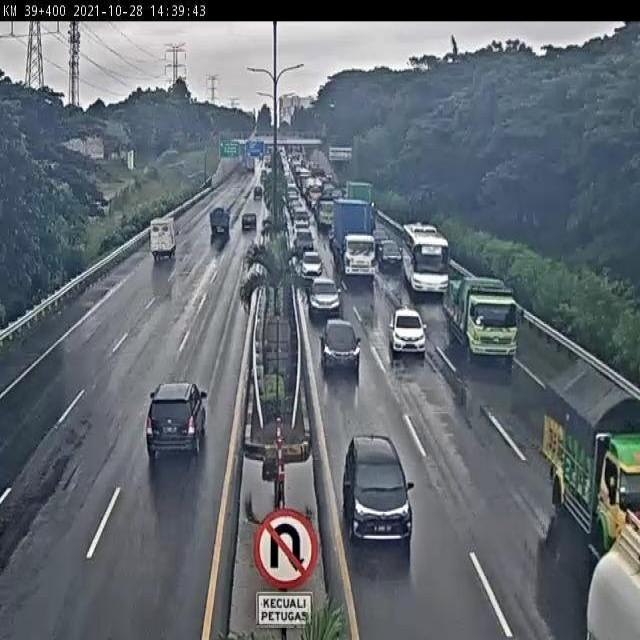big bus: (402, 217, 453, 296)
big truck: (332, 196, 373, 277)
car: (343, 436, 412, 541), (143, 381, 208, 464), (319, 312, 360, 368), (387, 307, 425, 357), (308, 272, 341, 317), (375, 237, 403, 272), (299, 248, 322, 281), (238, 212, 260, 239)
mid truck: (441, 273, 517, 356)
small truck: (147, 216, 179, 257), (206, 205, 231, 238)
truck-m-: (539, 360, 640, 552)
